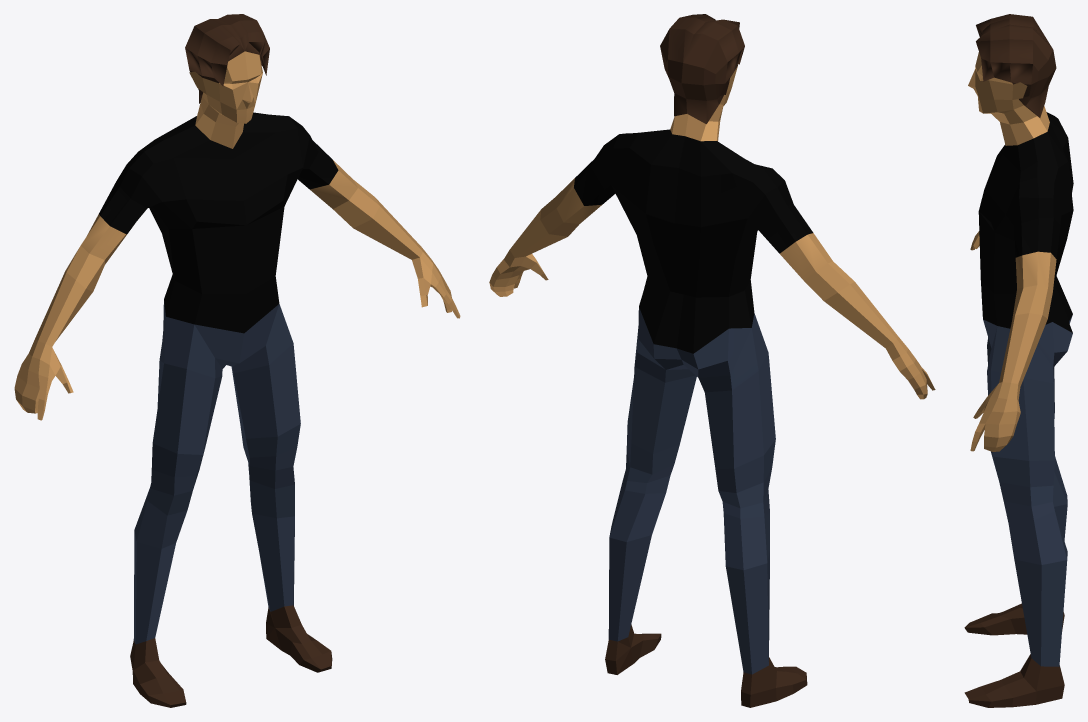
Rendered from main.fbx.
3 views of the same model, side by side, from view 1: azimuth 30°, elevation 25°; view 2: azimuth 150°, elevation 25°; view 3: azimuth 270°, elevation 25° (orthographic).
Parts seen in each view (by area): view 1: raj_base; view 2: raj_base; view 3: raj_base.
Boxes of the visible parts, x1,y1,x2,y2 form: raj_base: [14, 14, 460, 707]; raj_base: [489, 14, 935, 707]; raj_base: [964, 14, 1073, 707].
Size of the model in its own units: 1534 by 2205 by 340.
